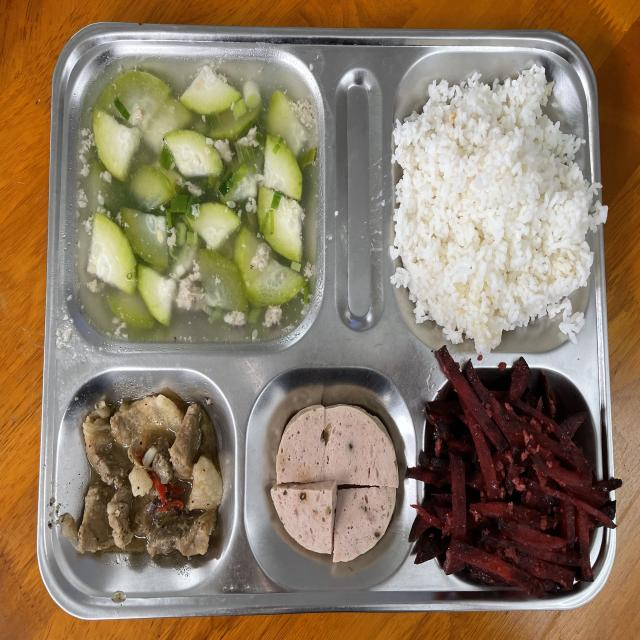com_trang: (419, 83, 579, 328)
thit_kho: (78, 392, 218, 574)
